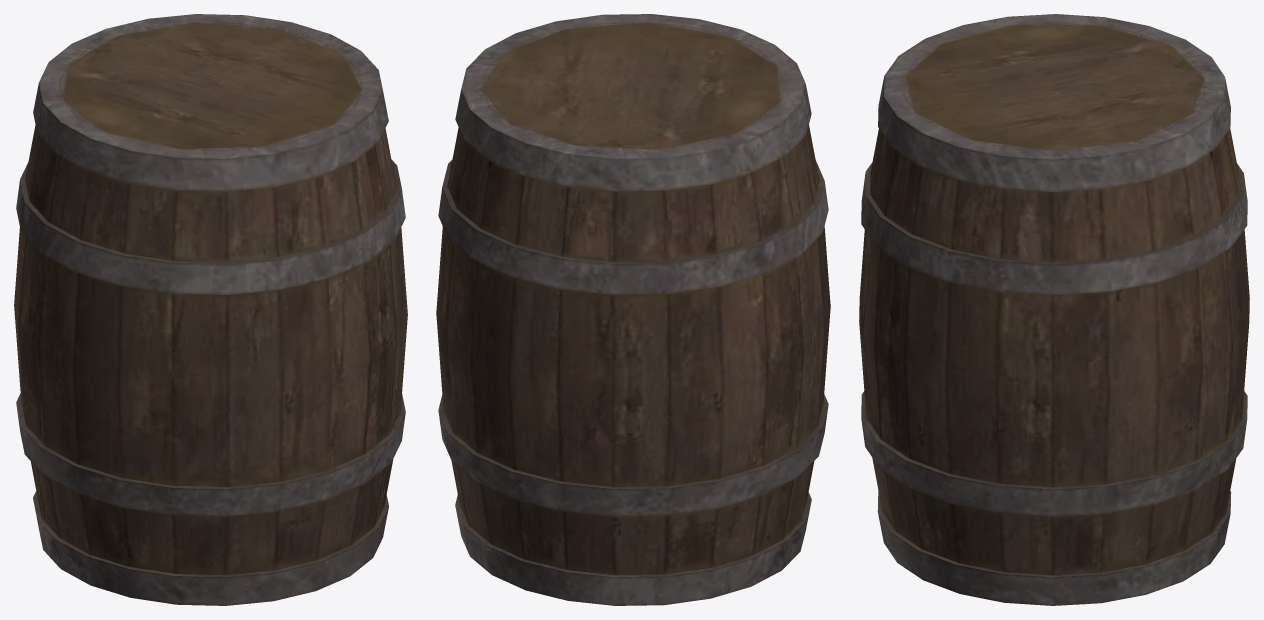
The model's file is Barrel.glb.
3 views of the same model, side by side, from view 1: azimuth 30°, elevation 25°; view 2: azimuth 150°, elevation 25°; view 3: azimuth 270°, elevation 25° (orthographic).
Visible parts, largest first — view 1: Barrel; view 2: Barrel; view 3: Barrel.
Part boxes in pixels (x1,y1,x2,y2): Barrel: [14, 14, 407, 605]; Barrel: [436, 14, 830, 605]; Barrel: [859, 14, 1249, 605].
Bounding box in the file's own units: 0.8269 × 1.03 × 0.8197.
1 material, 1 textured.
